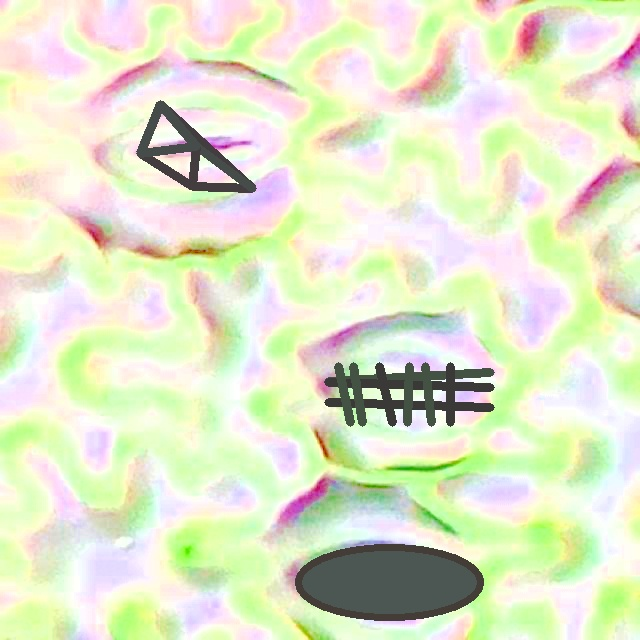close: (295, 545, 483, 620), (325, 363, 494, 426)
open: (137, 101, 256, 190)
